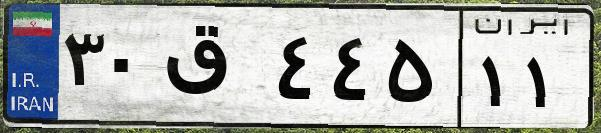0: (110, 28, 158, 98)
1: (475, 38, 525, 113), (525, 38, 570, 115)
3: (57, 26, 110, 100)
4: (270, 28, 330, 110), (330, 28, 385, 110)
5: (385, 28, 445, 110)
ق: (158, 20, 270, 120)
